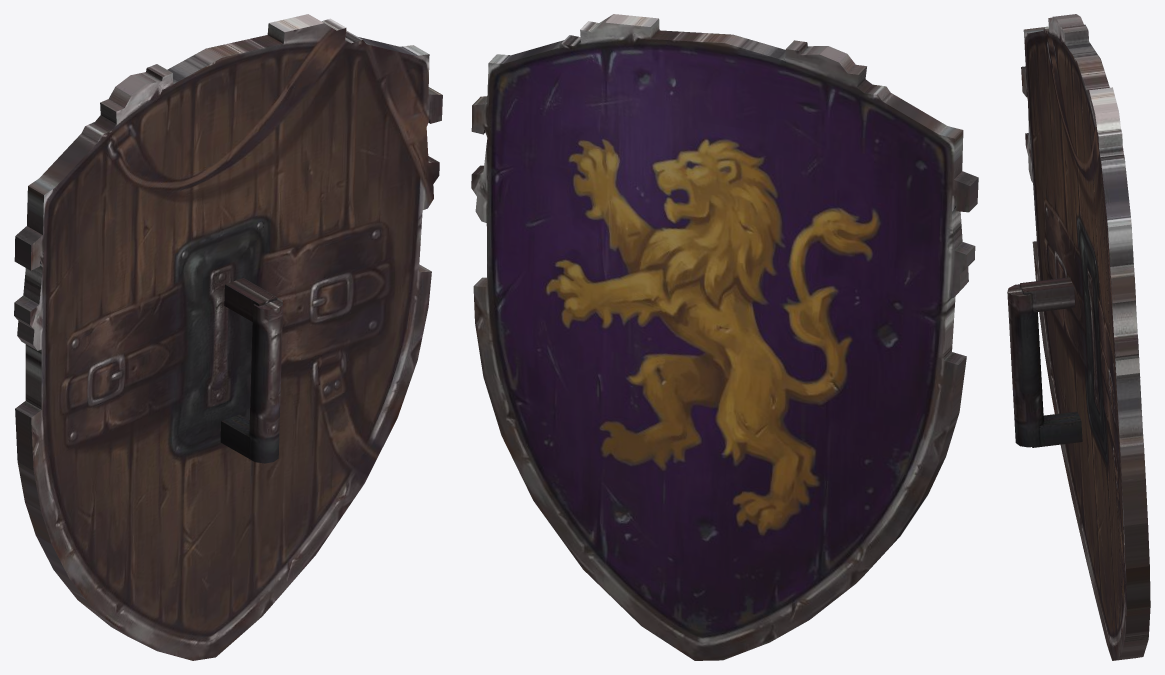
Rendered from shield_heater_violet.glb.
The picture shows the model from 3 angles, left to right: view 1: azimuth 30°, elevation 25°; view 2: azimuth 150°, elevation 25°; view 3: azimuth 270°, elevation 25°; orthographic projection. The views are drawn at different scales.
Parts seen in each view (by area): view 1: shield_board; view 2: shield_board; view 3: shield_board.
Boxes of the visible parts, x1,y1,x2,y2 form: shield_board: (14, 14, 442, 660); shield_board: (471, 14, 978, 660); shield_board: (1007, 14, 1150, 660).
Size of the model in its own units: 0.5544 by 0.712 by 0.1544.
1 material, 1 textured.
